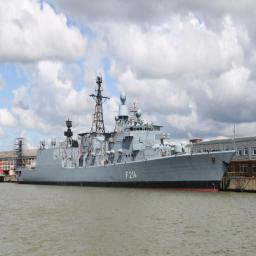Fragata: (15, 74, 237, 199)
